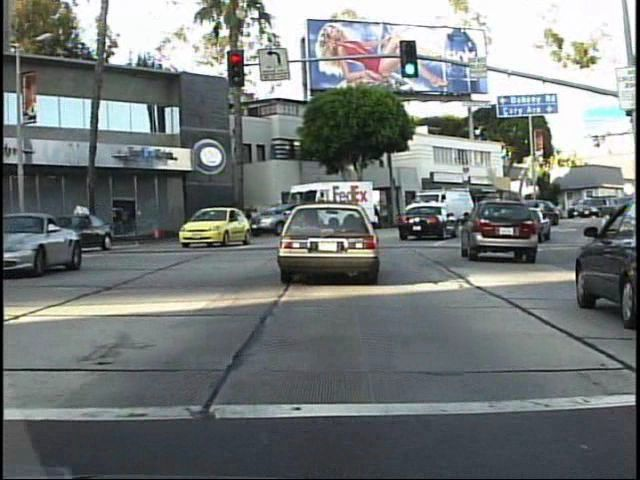person: (244, 199, 264, 225)
